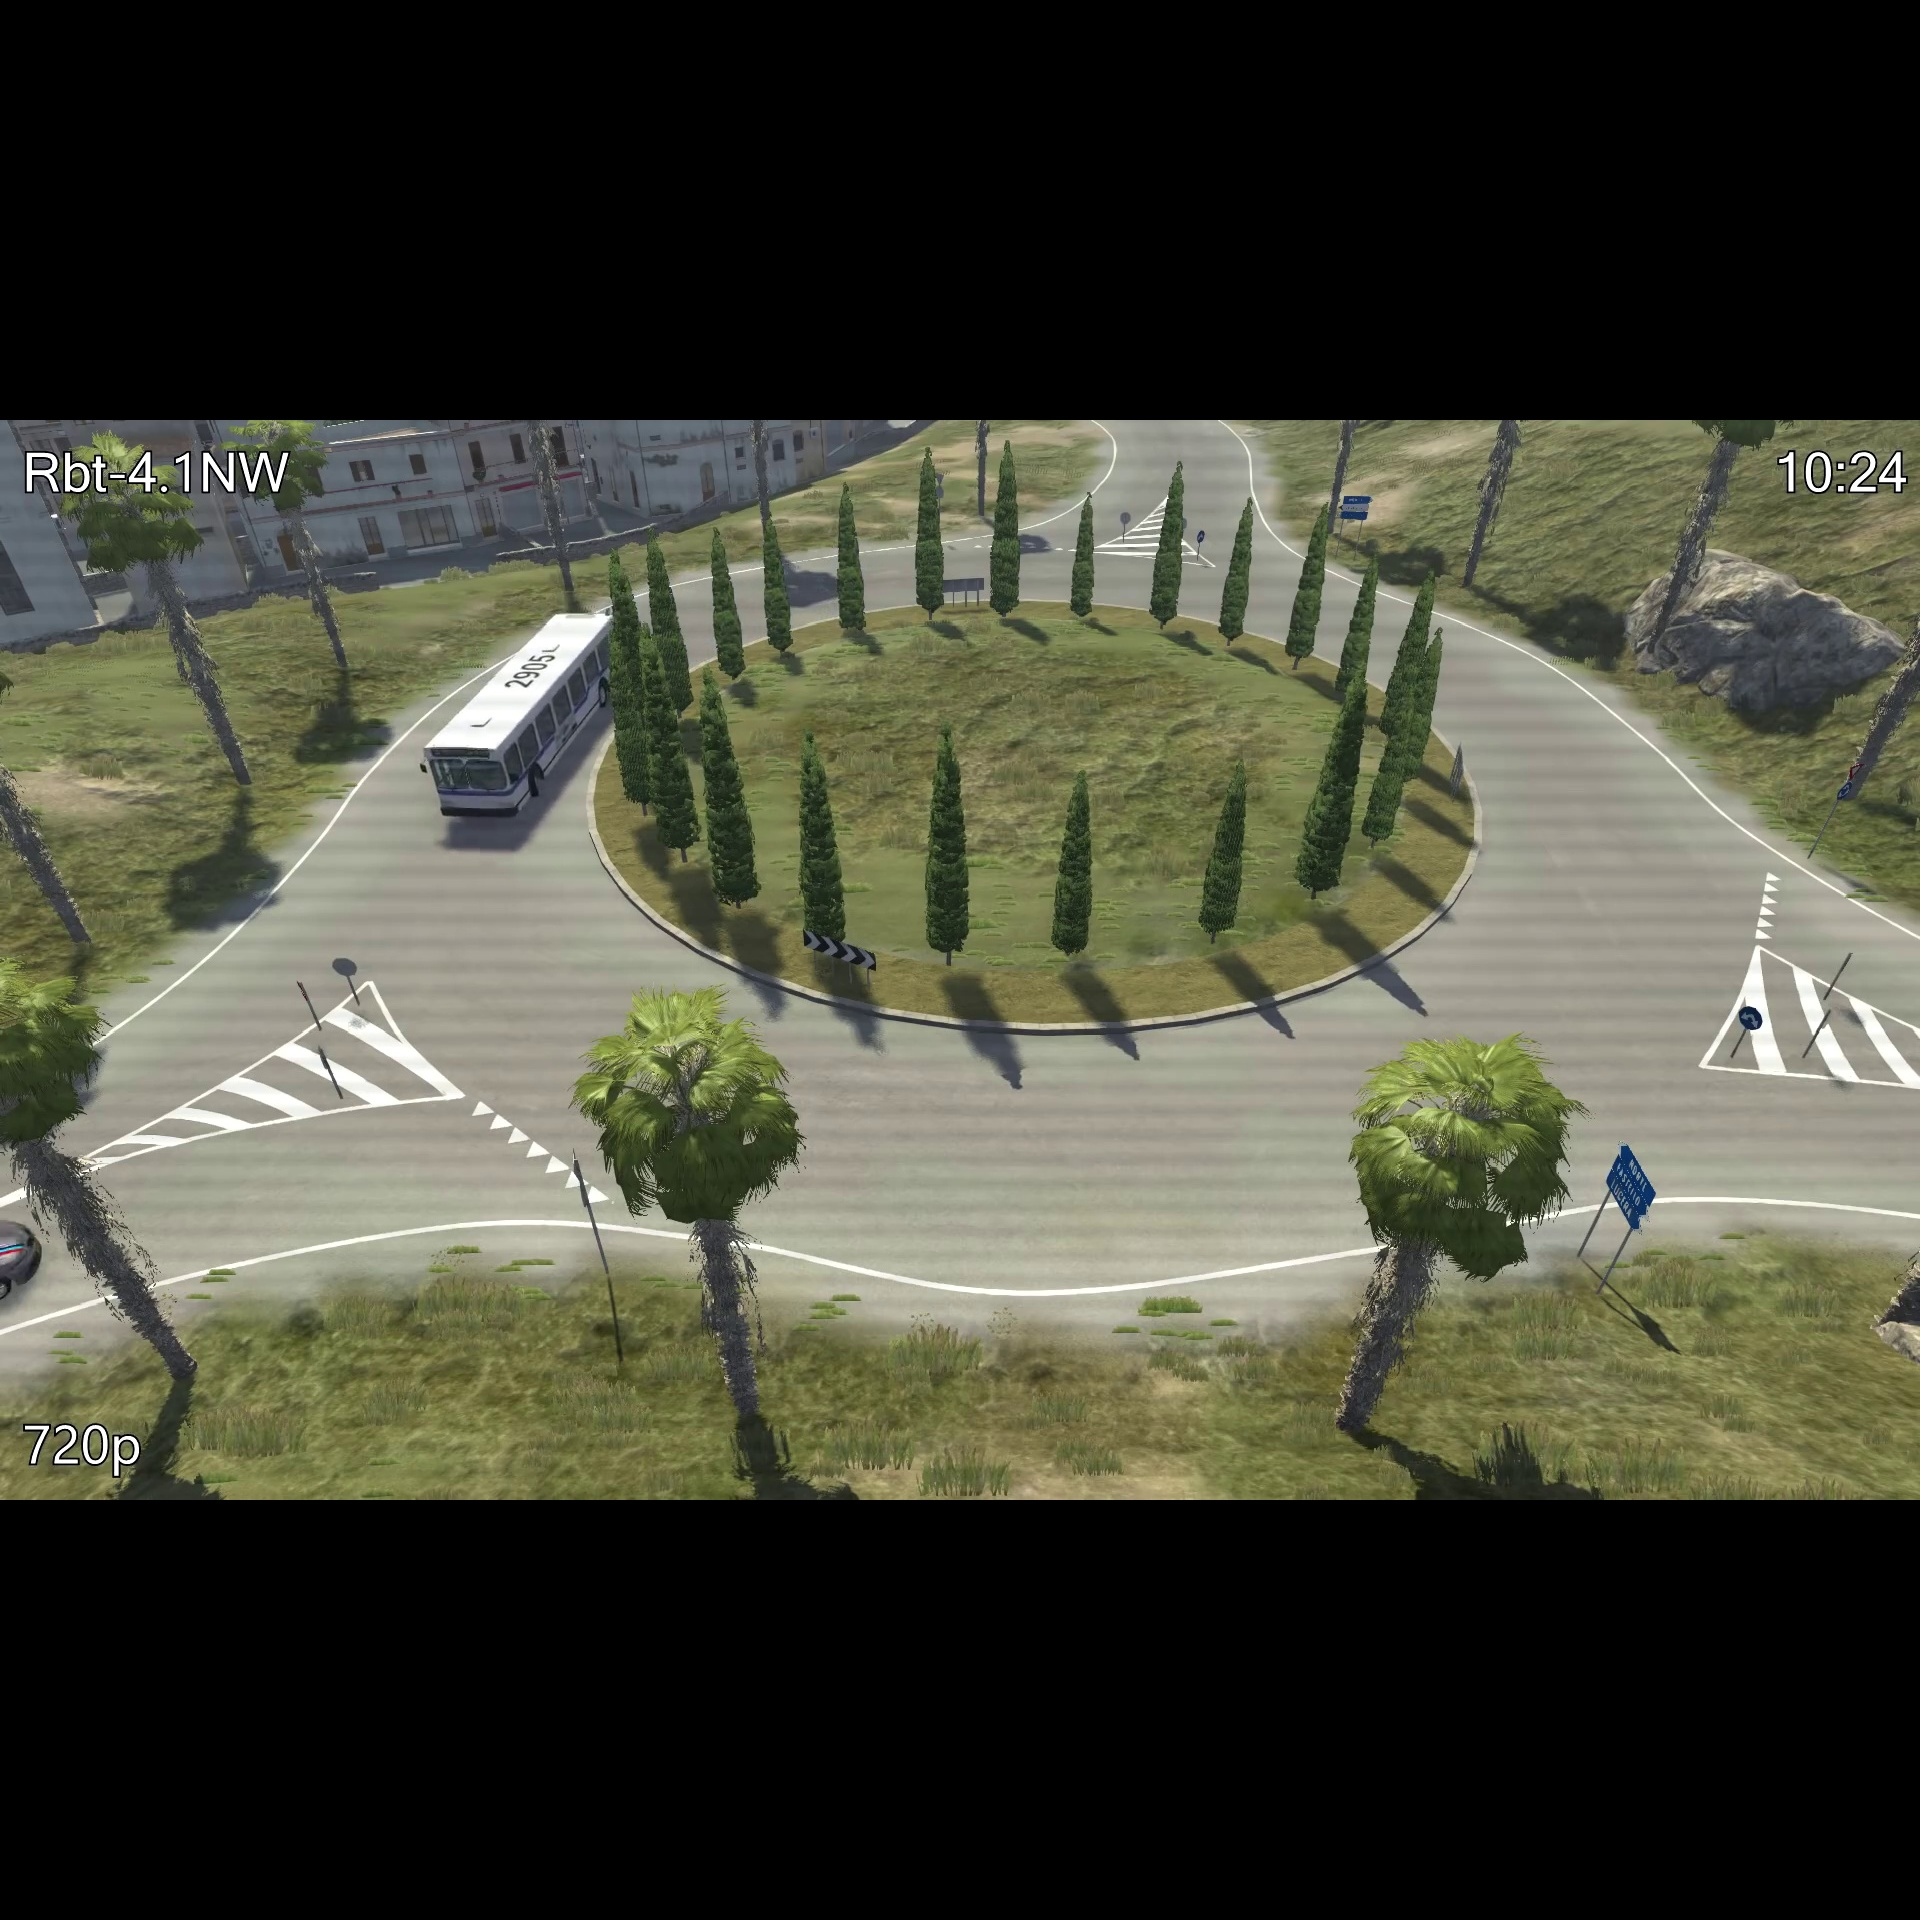vehicle: (417, 605, 628, 835)
